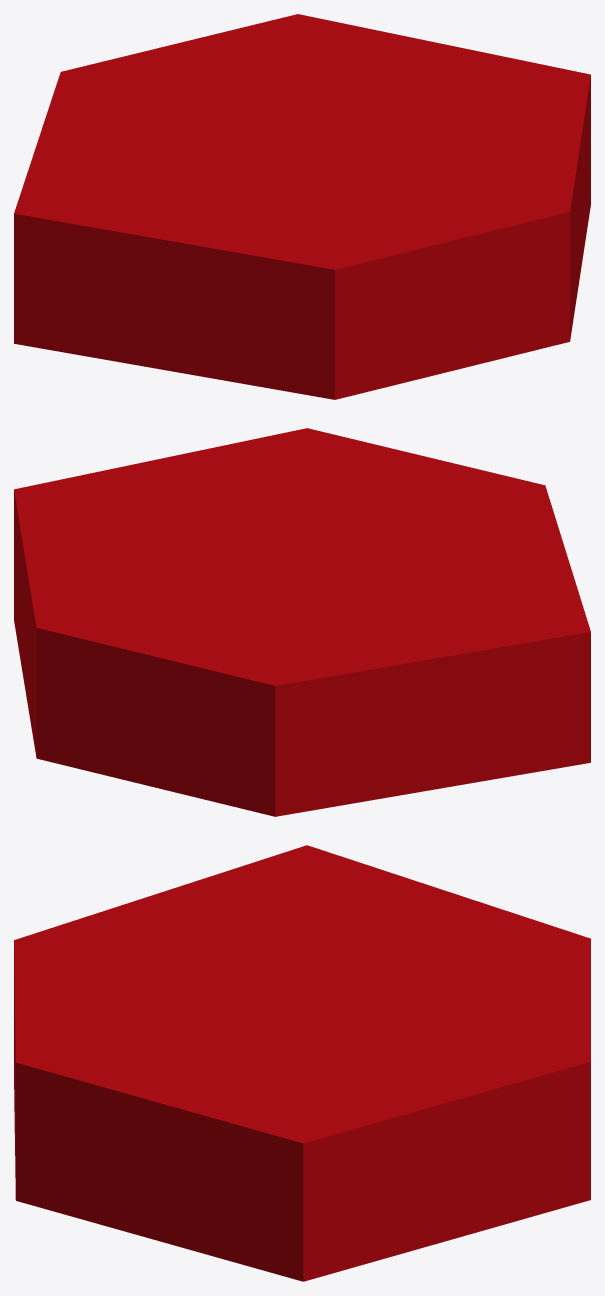
The model's file is boton.fbx.
The picture shows the model from 3 angles, top to bottom: view 1: azimuth 30°, elevation 25°; view 2: azimuth 150°, elevation 25°; view 3: azimuth 270°, elevation 25°; orthographic projection. The views are drawn at different scales.
Parts seen in each view (by area): view 1: Cube.008; view 2: Cube.008; view 3: Cube.008.
Boxes of the visible parts, x1,y1,x2,y2 form: Cube.008: [14, 14, 590, 399]; Cube.008: [14, 428, 590, 816]; Cube.008: [14, 845, 590, 1281].
Bounding box in the file's own units: 165 × 35.74 × 135.
